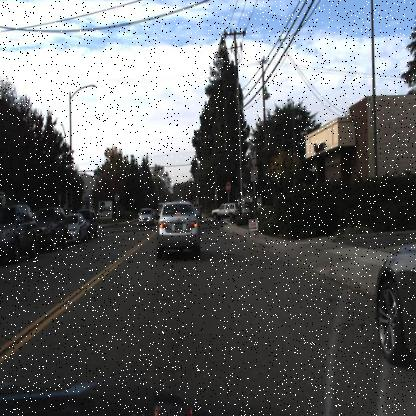car: (375, 241, 415, 370), (154, 198, 201, 259), (0, 203, 38, 259), (34, 206, 68, 248), (210, 201, 239, 222), (66, 211, 88, 238), (138, 208, 154, 228)
